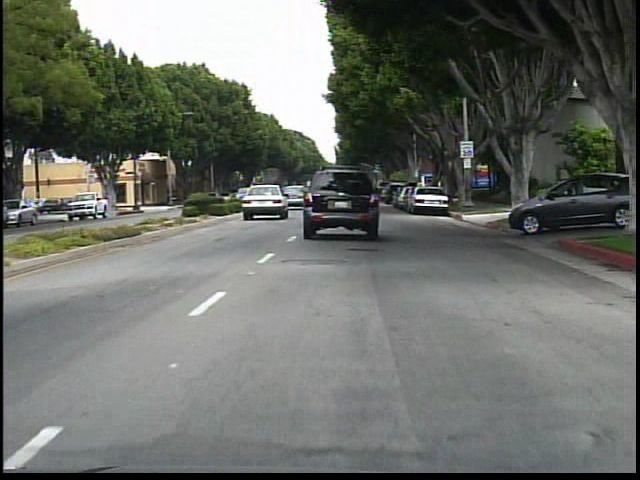person: (506, 169, 527, 213)
